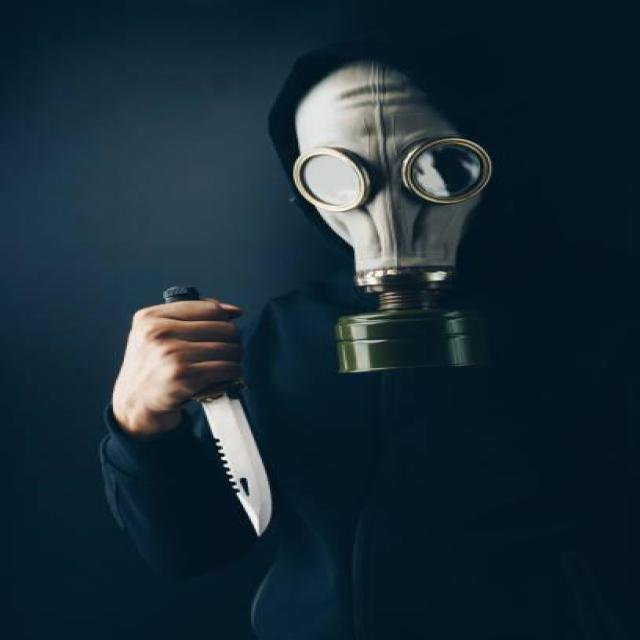faca: (109, 274, 294, 546)
